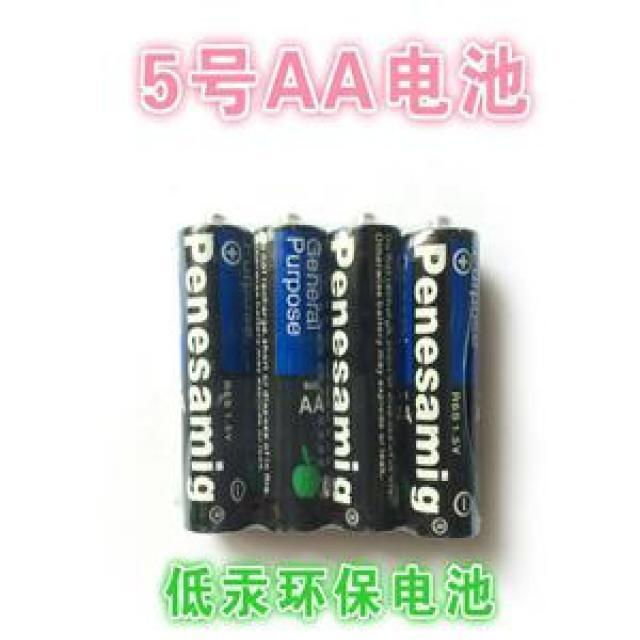AAA: (400, 206, 491, 540), (180, 199, 256, 539), (253, 198, 329, 536), (331, 198, 403, 535)
